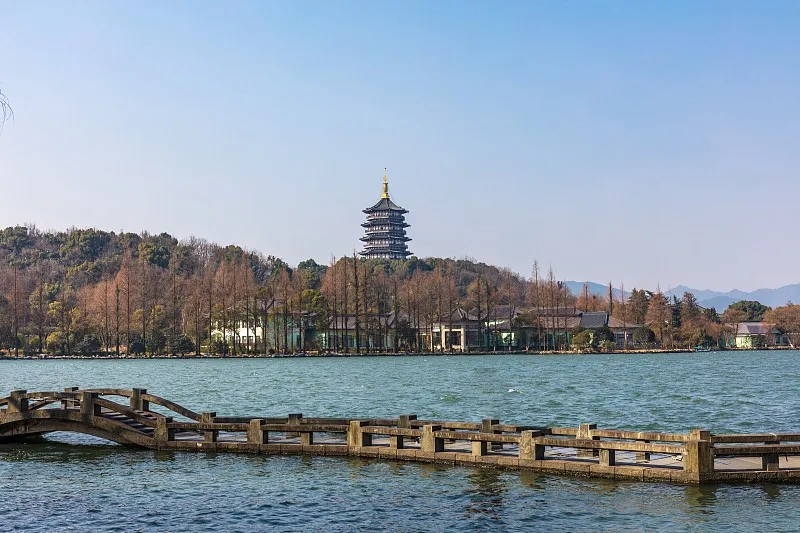Leifeng: (360, 166, 413, 262)
